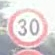limite 30: (6, 7, 49, 49)
